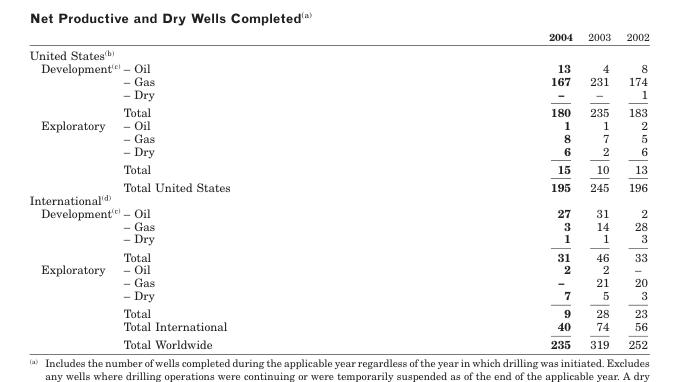table: (28, 29, 648, 351)
table column: (121, 29, 388, 351), (388, 29, 579, 351), (28, 29, 121, 351), (579, 29, 618, 351), (618, 29, 648, 351)
table column header: (28, 29, 648, 44)
table projected row header: (28, 44, 648, 61), (28, 193, 648, 205)
table row: (28, 159, 648, 177), (28, 44, 648, 61), (28, 86, 648, 102), (28, 143, 648, 159), (28, 177, 648, 193), (28, 231, 648, 247), (28, 288, 648, 304), (28, 319, 648, 335), (28, 335, 648, 351), (28, 29, 648, 44), (28, 102, 648, 117), (28, 247, 648, 262), (28, 304, 648, 319), (28, 61, 648, 74), (28, 117, 648, 130), (28, 130, 648, 143), (28, 205, 648, 218), (28, 218, 648, 231), (28, 262, 648, 275), (28, 275, 648, 288), (28, 74, 648, 86), (28, 193, 648, 205)
table spanning cell: (28, 262, 121, 351), (28, 117, 121, 193), (28, 205, 121, 262), (28, 61, 121, 117)
